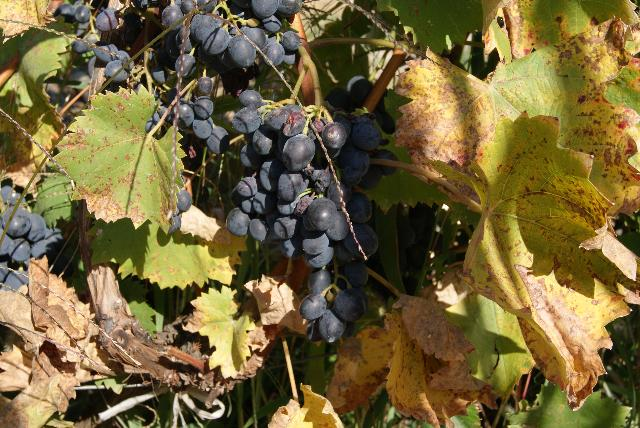grapes: (226, 90, 380, 341)
